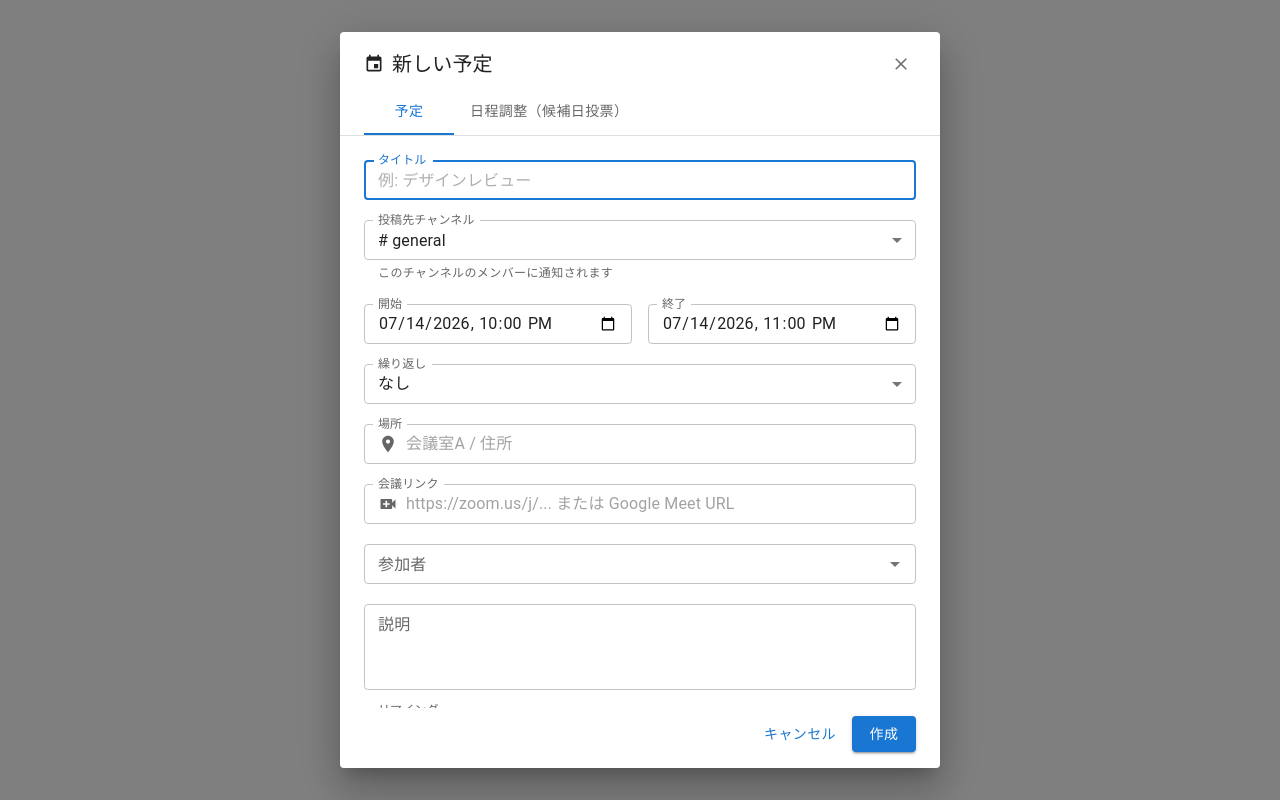
EventDialog › 日程調整モードのバリデーション › タイトル空のまま送信するとエラー
This screenshot has width=1280, height=800.
Click the tab with aria-label "poll-tab" at x=549, y=112, box [454,88,644,136]
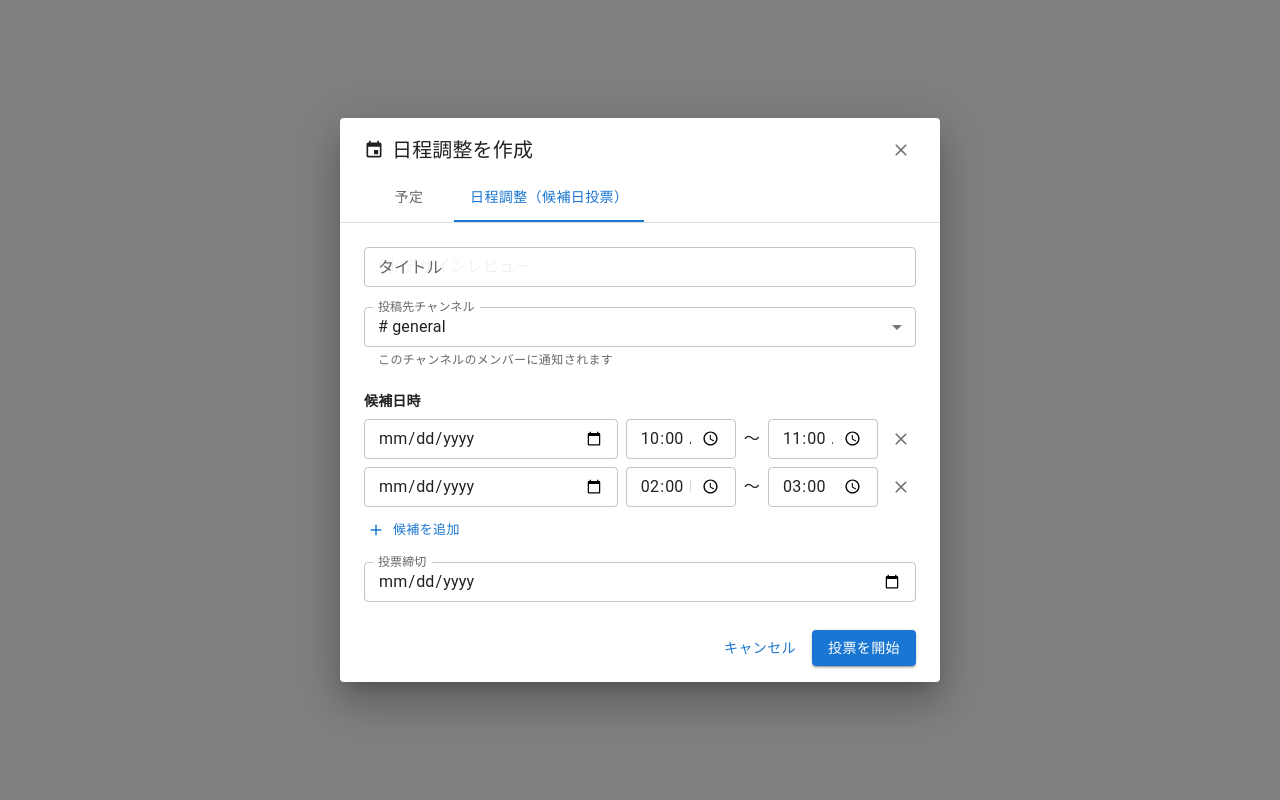
Click the button with aria-label "event-dialog-submit" at x=864, y=648, box [812,630,916,666]
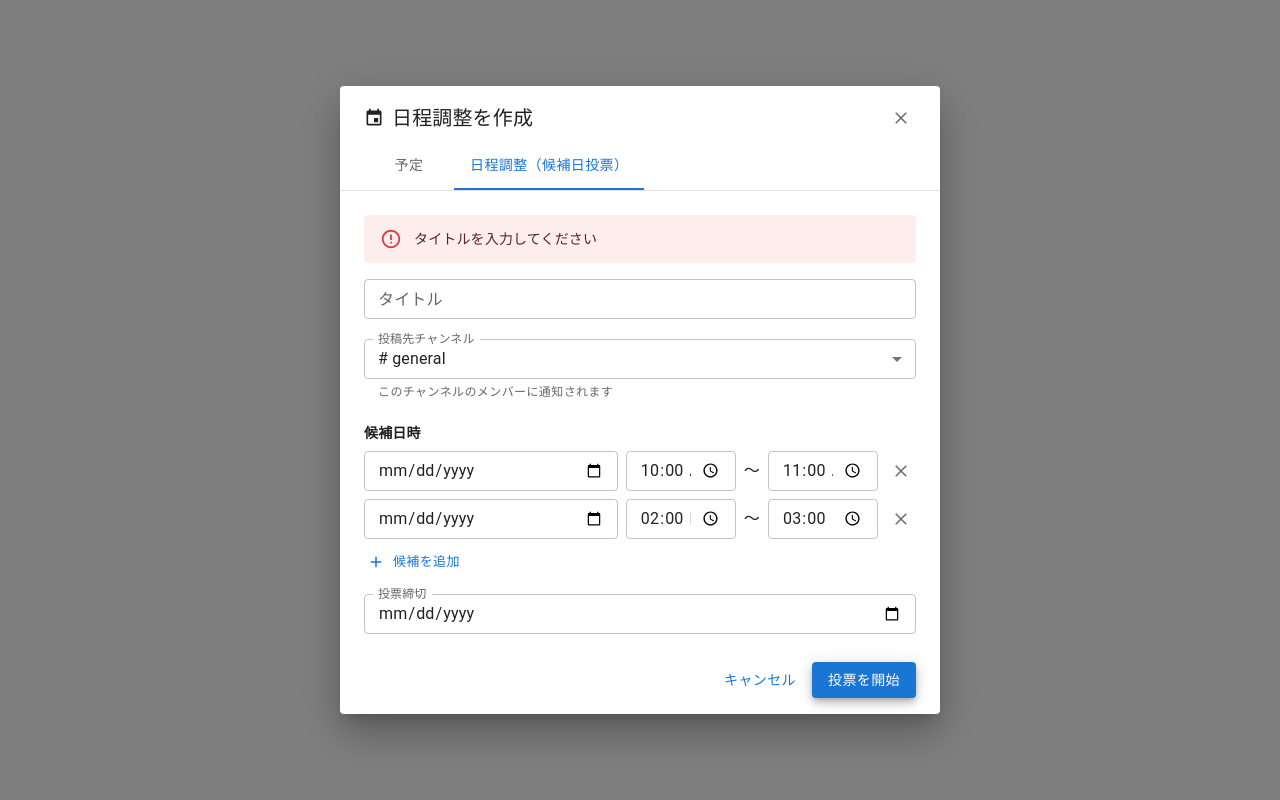
Result: the message with test id "event-dialog-error" shows "タイトル" at [414,231,597,247]
